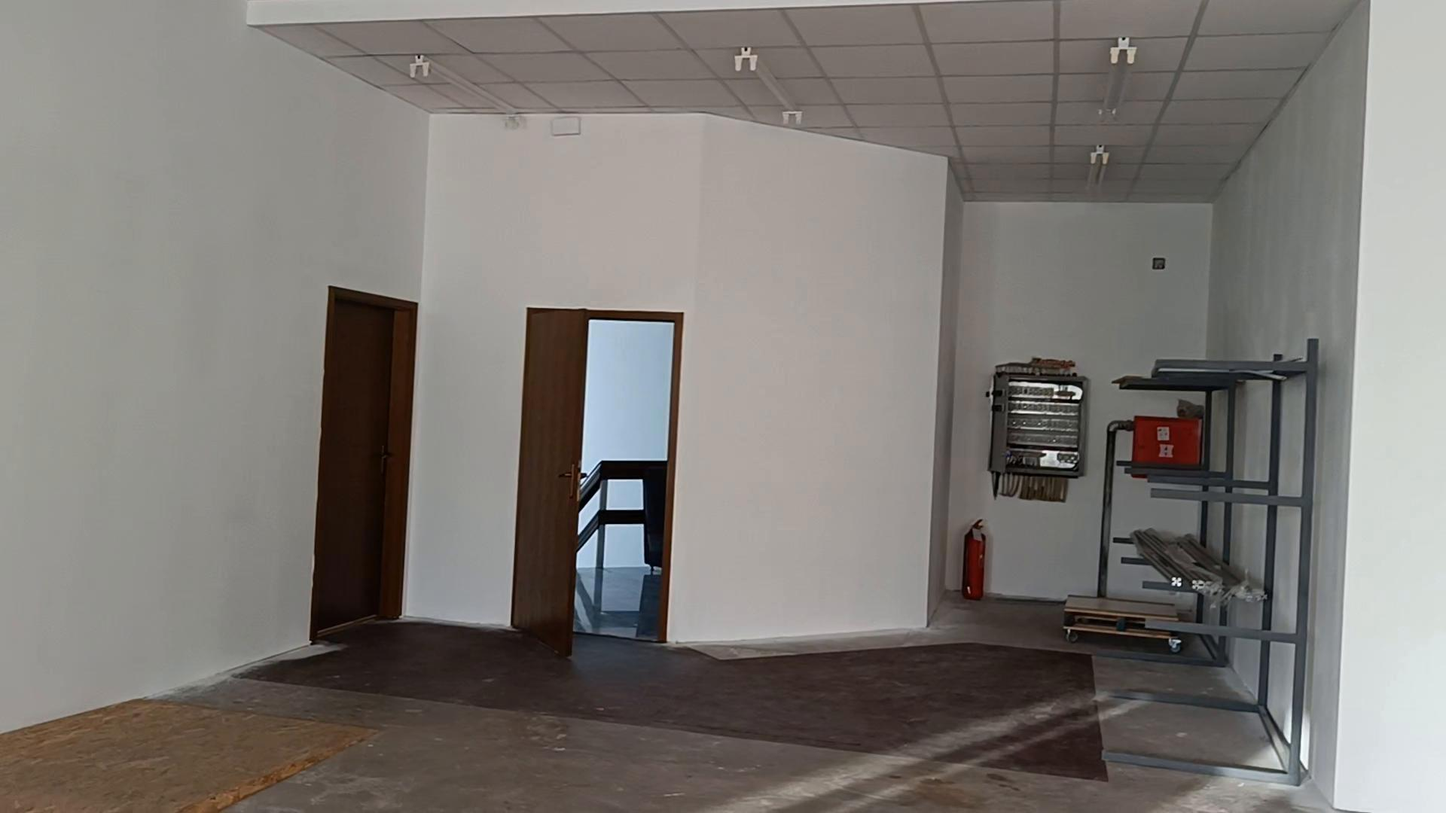ceiling: (249, 0, 1361, 202)
floor: (0, 600, 1330, 812)
wall: (1, 0, 1443, 809)
